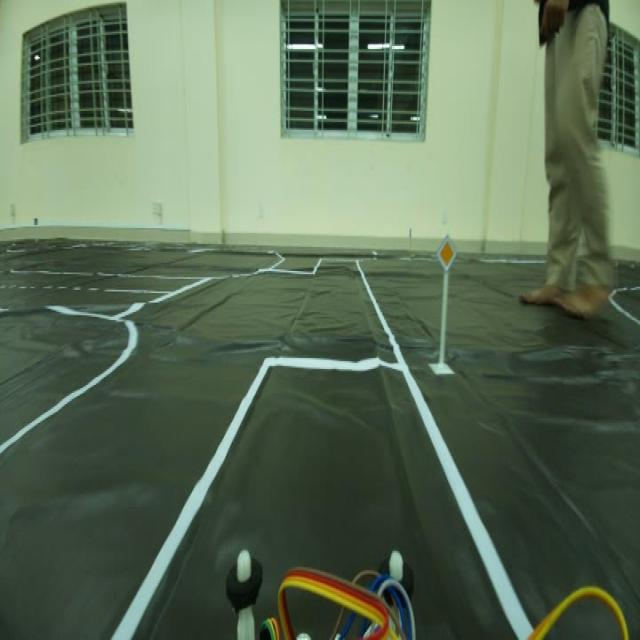priority: (437, 233, 455, 268)
